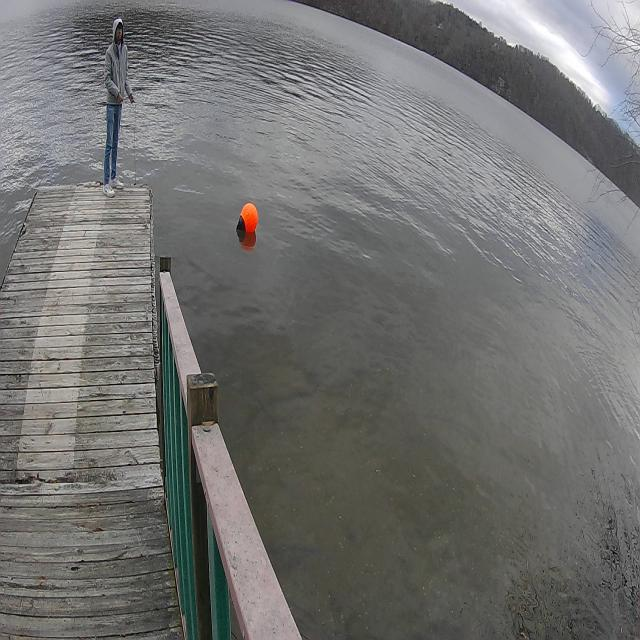Buoy: (236, 194, 260, 244)
